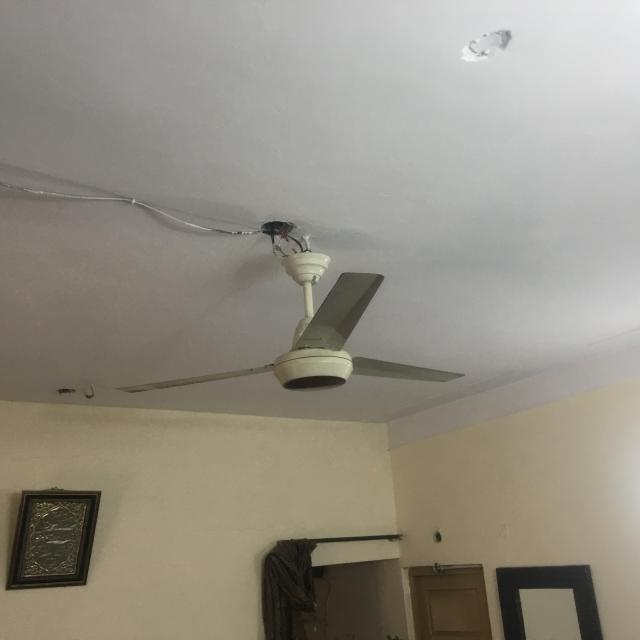off: (107, 269, 474, 406)
